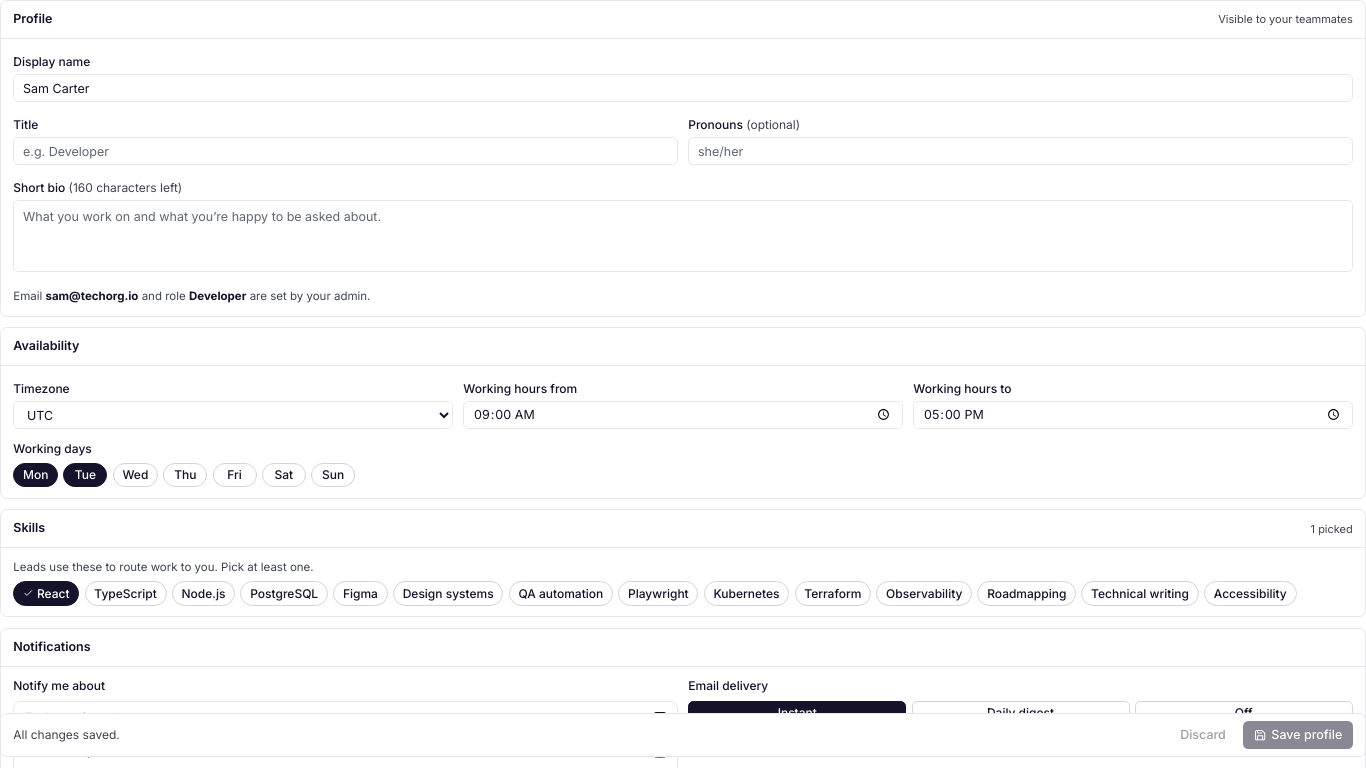
Scenario: ProfileSettings › validates working days and skills before saving
Click the checkbox labelled "Mon" at (36, 475), box [13, 463, 58, 487]
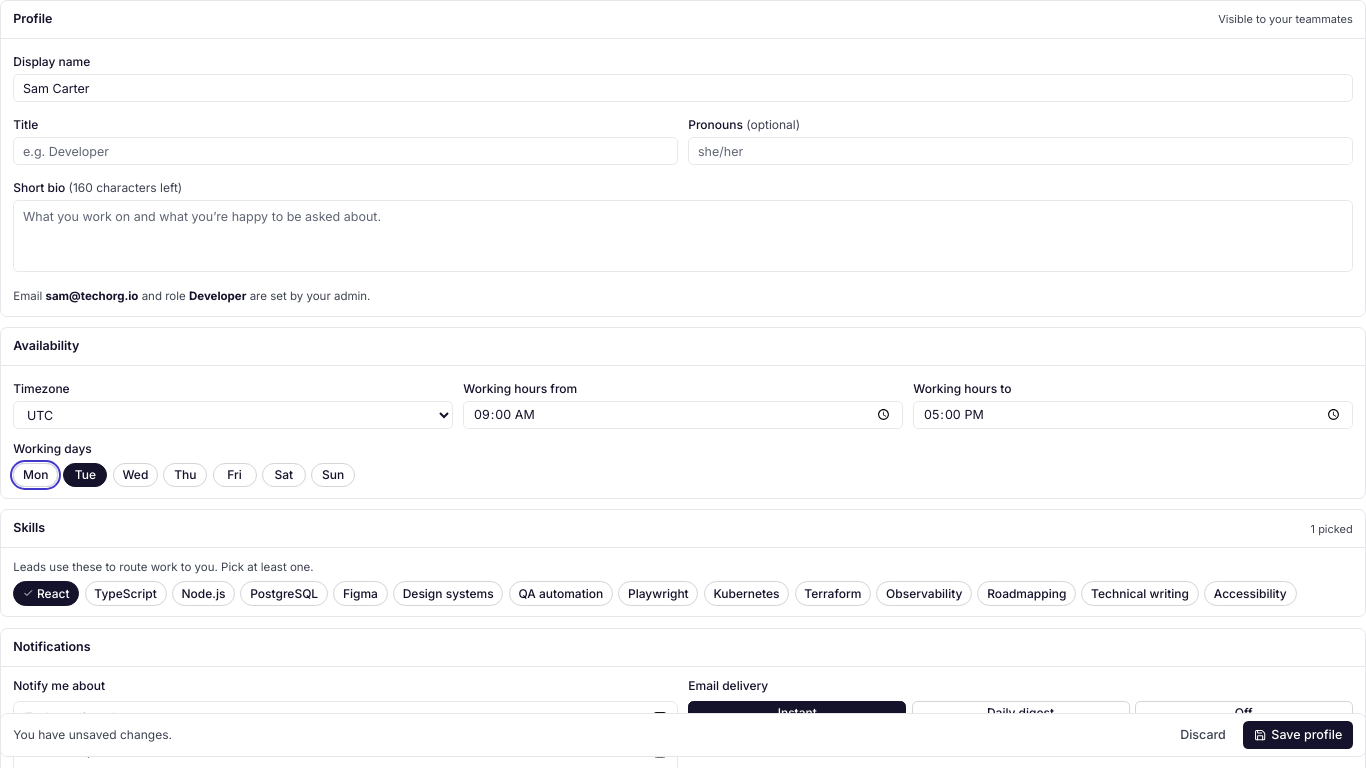
Click the checkbox labelled "Tue" at (85, 475), box [63, 463, 107, 487]
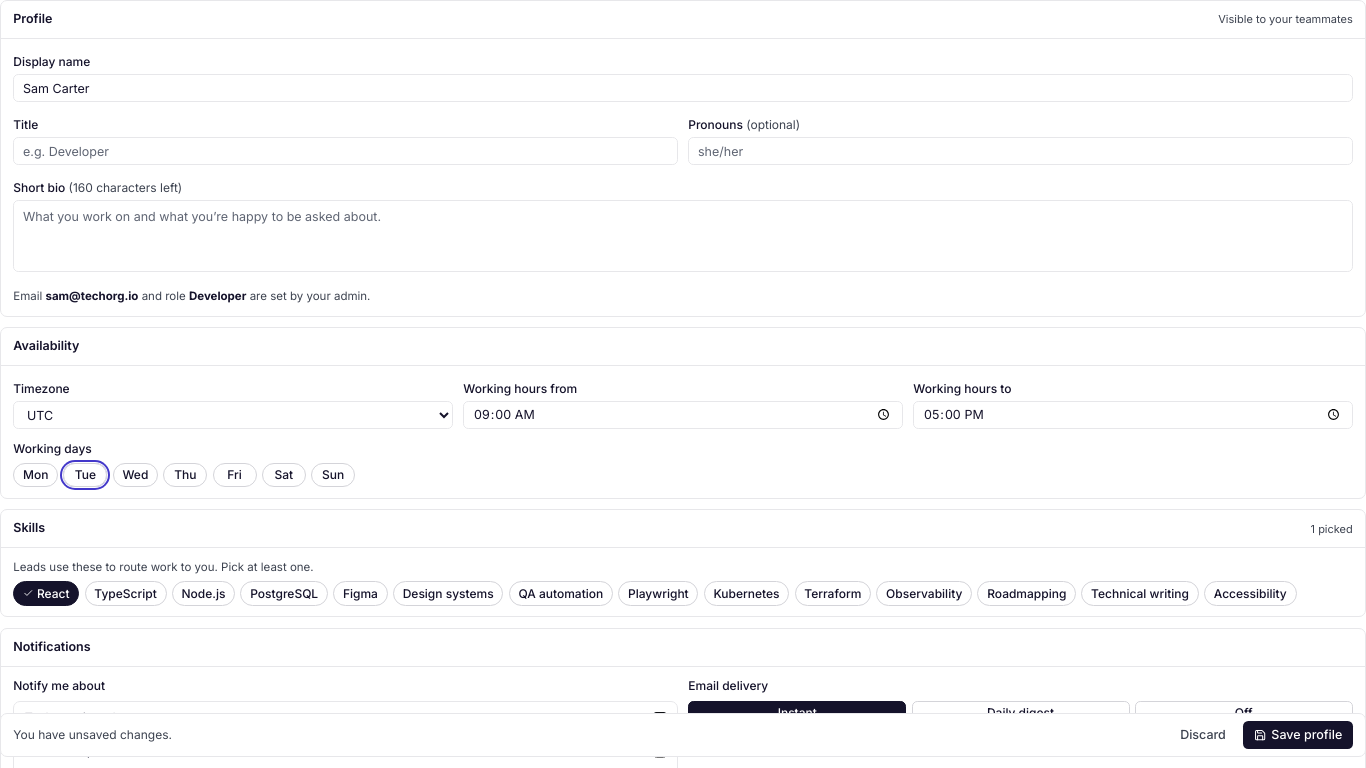
Click the button "Save profile" at (1298, 736), box [1243, 722, 1353, 750]
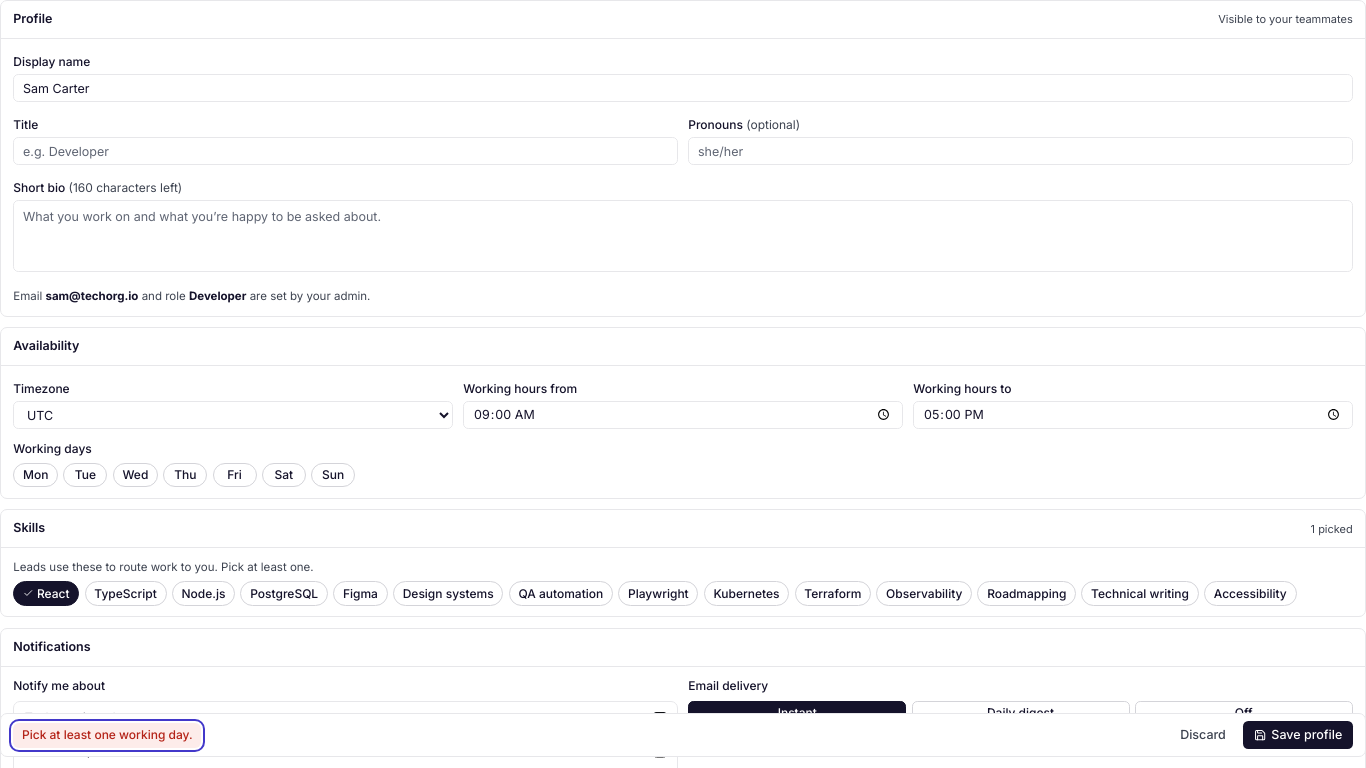
expect the message shows "at least one working day": met, box [22, 728, 193, 742]
